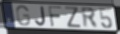5: (98, 8, 113, 30)
F: (47, 5, 63, 28)
G: (15, 5, 31, 27)
J: (34, 6, 47, 27)
R: (80, 6, 99, 29)
Z: (64, 6, 82, 29)
